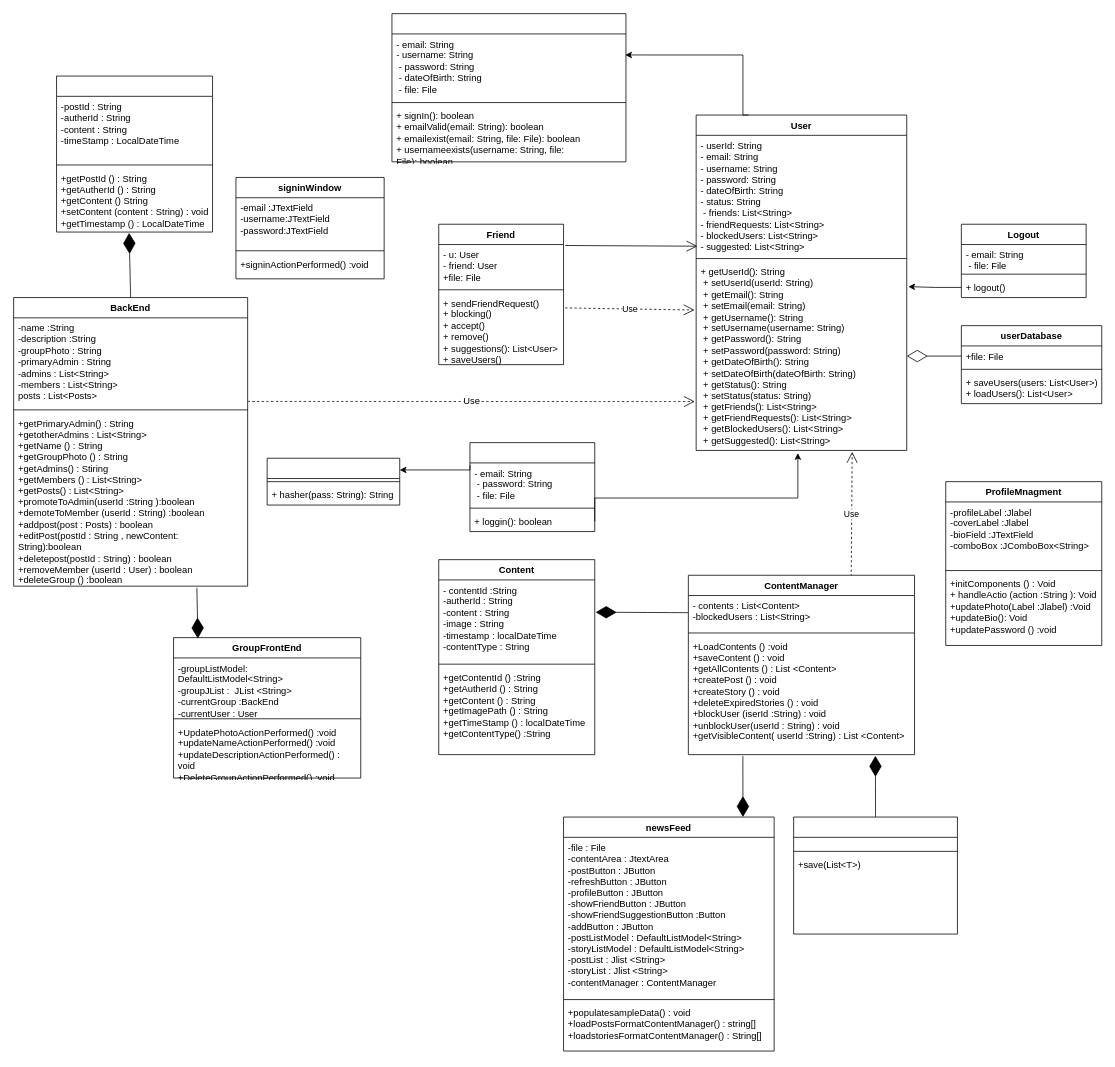
Image size: 1115x1067. Some labels were removed from this diagram. The shapes that lost their labels are listed below. From the top down, each one's box as (x1, y1, x2, y2) in pixels, then its label:
(391, 13, 626, 162): Sighnin
(56, 75, 213, 232): Posts
(266, 457, 400, 505): PasswordHasher
(469, 442, 595, 532): Login
(793, 816, 957, 934): DataBase
